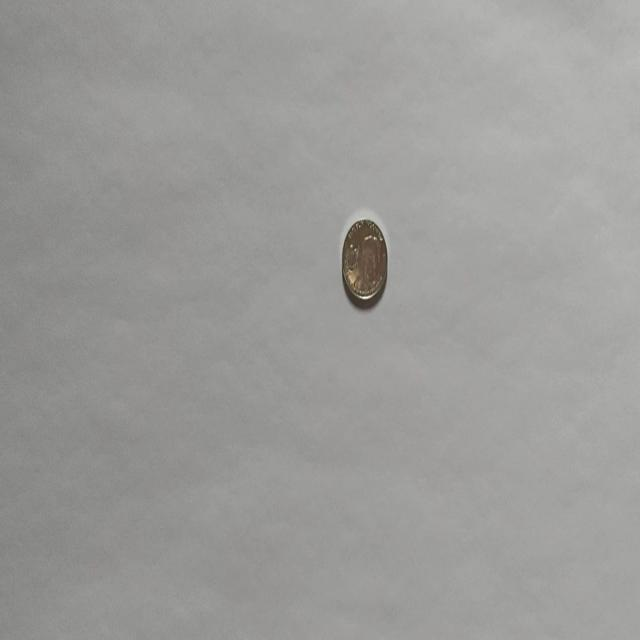seratus rupiah: (340, 216, 388, 302)
